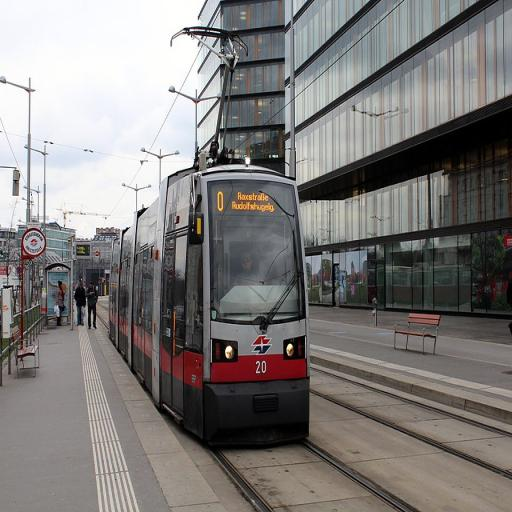ULF: (103, 163, 312, 446)
